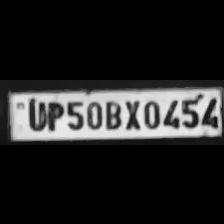0: (140, 96, 160, 128), (84, 97, 104, 128)
4: (200, 93, 220, 127), (160, 95, 180, 127)
5: (179, 94, 199, 128), (63, 97, 83, 129)
B: (102, 97, 122, 128)
P: (44, 98, 62, 130)
U: (24, 97, 46, 130)
X: (122, 97, 140, 129)
